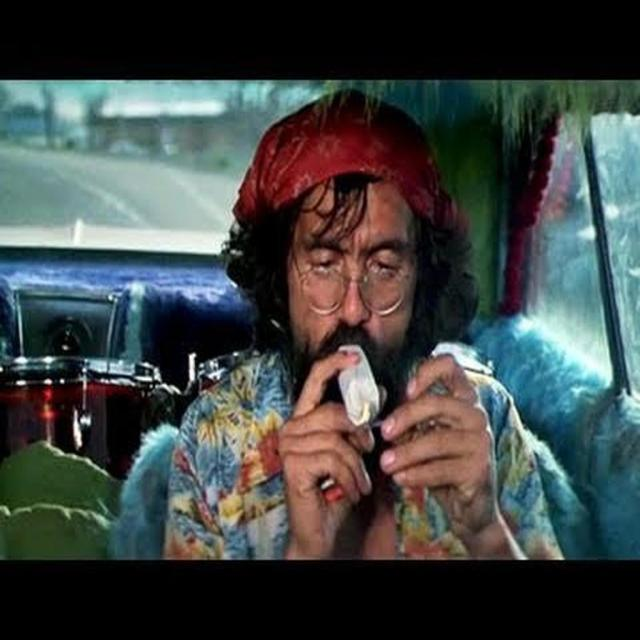smoking: (214, 98, 528, 488)
